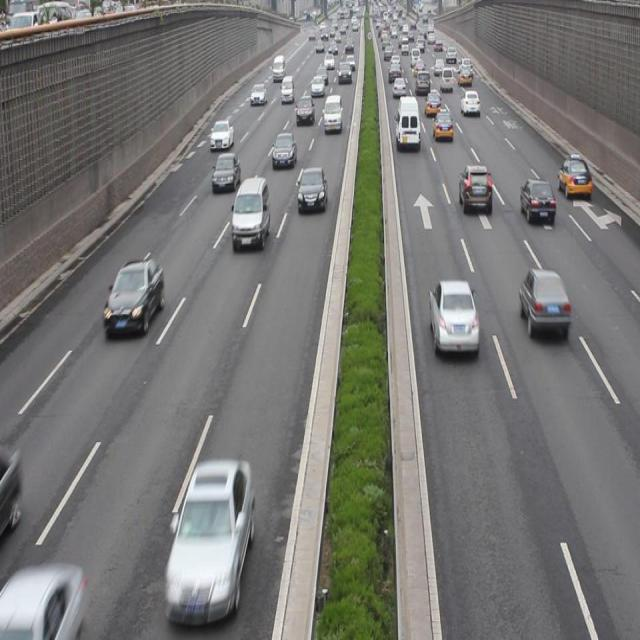car: (166, 462, 252, 606), (105, 261, 165, 335), (426, 279, 478, 362), (516, 265, 569, 338), (232, 171, 269, 254), (558, 154, 591, 203), (458, 168, 492, 215), (520, 180, 554, 223), (211, 153, 240, 194), (298, 170, 325, 213), (272, 131, 295, 172), (431, 108, 453, 146), (211, 118, 234, 152)
truck: (395, 97, 420, 151)
